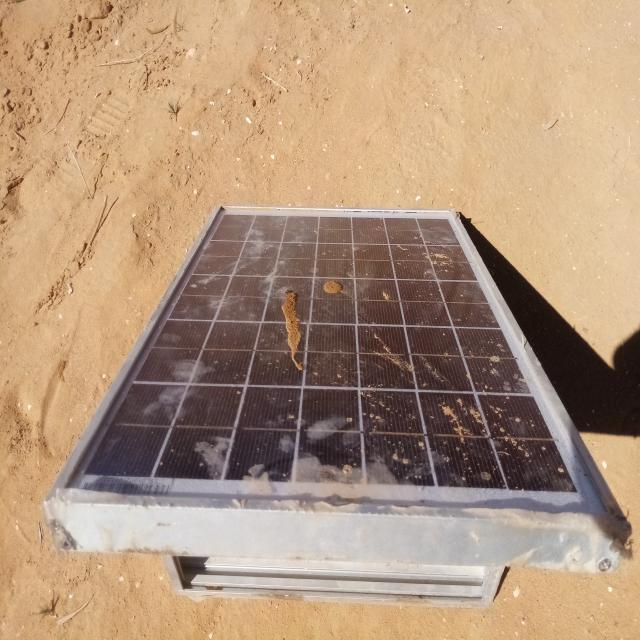faulty: (54, 209, 623, 531)
